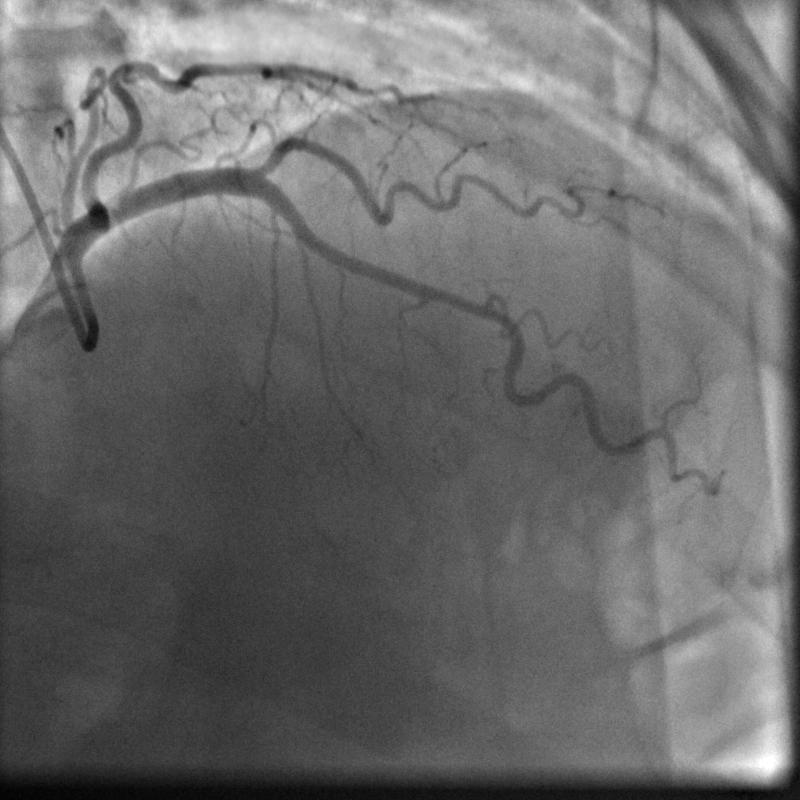Stenosis: (439, 294, 518, 332)
